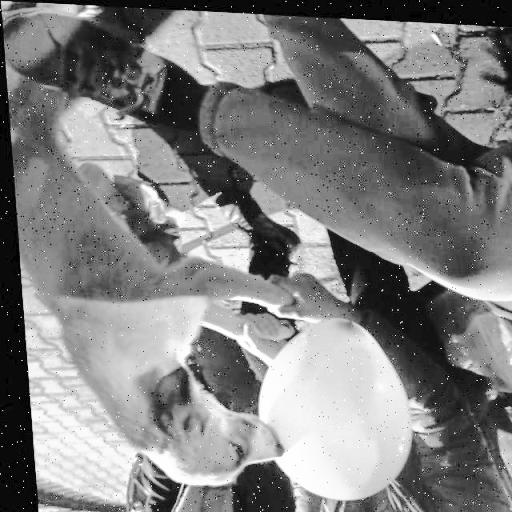balloon: (238, 310, 410, 500)
